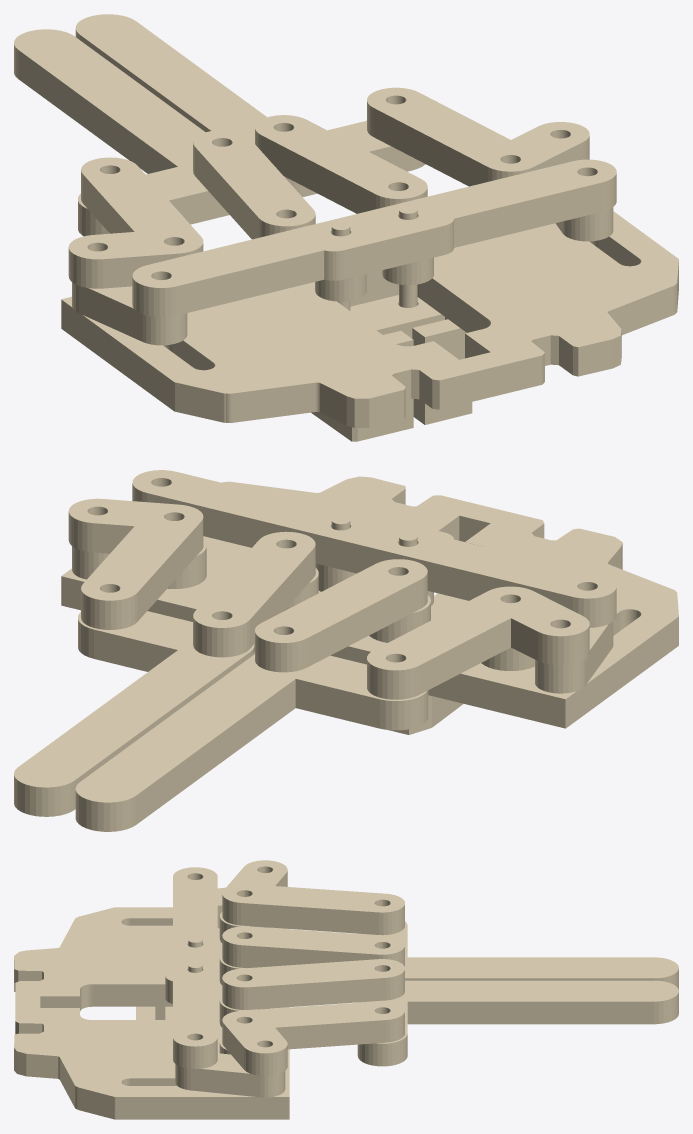
The model's file is sim.glb.
3 renders of one model, top to bottom at view 1: azimuth 30°, elevation 25°; view 2: azimuth 150°, elevation 25°; view 3: azimuth 270°, elevation 25°, orthographic. The views are drawn at different scales.
Visible parts, largest first — view 1: NB_base_nova_garra_A_0, NB_carro_T_novo_13, A_dedo_7, A_elo_externo_alavanca_5, A_elo_externo_alavanca_11, A_dedo_1, A_elo_interno_4, A_elo_interno_10, A_biela_12, NB_bloco_embolo_(copia_outro_grupo)_16, NB_bloco_embolo_(copia_outro_grupo)_18, A_biela_6 (+3 smaller); view 2: NB_base_nova_garra_A_0, A_dedo_7, NB_carro_T_novo_13, A_dedo_1, A_elo_externo_alavanca_11, A_elo_externo_alavanca_5, A_elo_interno_10, A_elo_interno_4, A_biela_12, A_espacador_8, NB_bloco_embolo_(copia_outro_grupo)_18, A_espacador_3 (+3 smaller); view 3: NB_base_nova_garra_A_0, A_dedo_1, NB_carro_T_novo_13, A_elo_externo_alavanca_11, A_elo_externo_alavanca_5, A_elo_interno_4, A_dedo_7, A_elo_interno_10, A_biela_6, NB_bloco_embolo_(copia_outro_grupo)_16.
Boxes of the visible parts, x1,y1,x2,y2 form: NB_base_nova_garra_A_0: (61, 211, 678, 427); NB_carro_T_novo_13: (132, 159, 616, 317); A_dedo_7: (14, 29, 229, 236); A_elo_externo_alavanca_5: (367, 87, 589, 186); A_elo_externo_alavanca_11: (68, 157, 203, 288); A_dedo_1: (75, 14, 425, 196); A_elo_interno_4: (255, 115, 427, 213); A_elo_interno_10: (193, 130, 315, 239); A_biela_12: (72, 282, 187, 345); NB_bloco_embolo_(copia_outro_grupo)_16: (350, 295, 466, 358); NB_bloco_embolo_(copia_outro_grupo)_18: (311, 399, 472, 441); A_biela_6: (555, 207, 613, 241); NB_base_nova_garra_A_0: (61, 476, 678, 728); A_dedo_7: (75, 654, 428, 831); NB_carro_T_novo_13: (132, 470, 616, 627); A_dedo_1: (14, 611, 254, 816); A_elo_externo_alavanca_11: (367, 586, 589, 699); A_elo_externo_alavanca_5: (68, 498, 203, 629); A_elo_interno_10: (255, 559, 427, 672); A_elo_interno_4: (193, 531, 315, 657); A_biela_12: (535, 622, 613, 693); A_espacador_8: (369, 595, 430, 642); NB_bloco_embolo_(copia_outro_grupo)_18: (388, 696, 463, 734); A_espacador_3: (167, 540, 206, 588); NB_base_nova_garra_A_0: (14, 907, 289, 1119); A_dedo_1: (357, 980, 678, 1066); NB_carro_T_novo_13: (165, 867, 217, 1068); A_elo_externo_alavanca_11: (222, 860, 404, 935); A_elo_externo_alavanca_5: (222, 1001, 404, 1075); A_elo_interno_4: (222, 959, 404, 1009); A_dedo_7: (358, 921, 678, 989); A_elo_interno_10: (222, 926, 404, 968); A_biela_6: (175, 1053, 285, 1097); NB_bloco_embolo_(copia_outro_grupo)_16: (136, 1006, 172, 1019).
Bounding box in the file's own units: 0.0915 × 0.032 × 0.1332.
